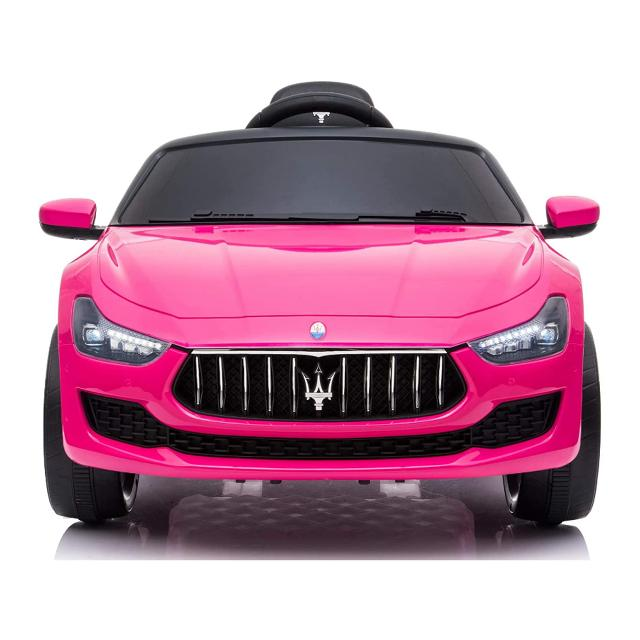maserati: (38, 80, 600, 522)
